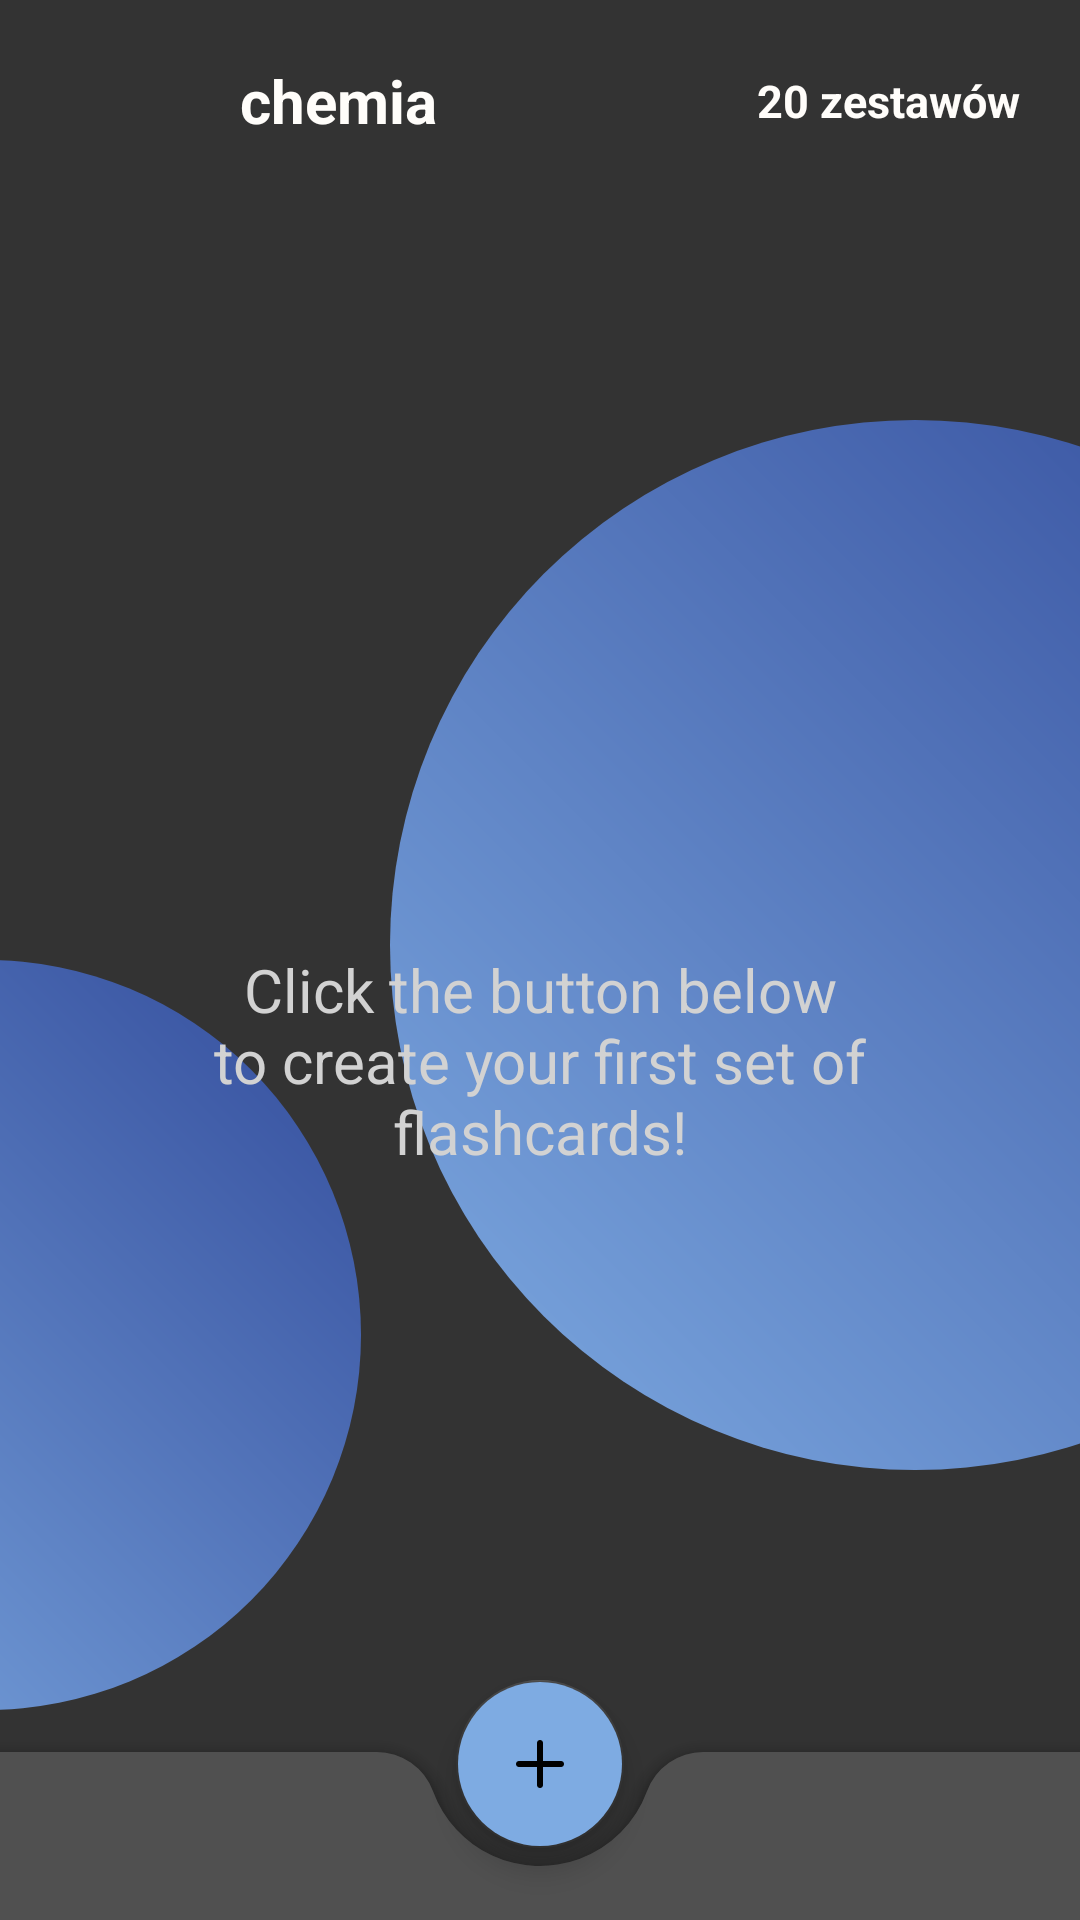

Point at icon controls on the screen. Image size 1080*1920, points as point (x, y).
plus: point (540, 1763)
